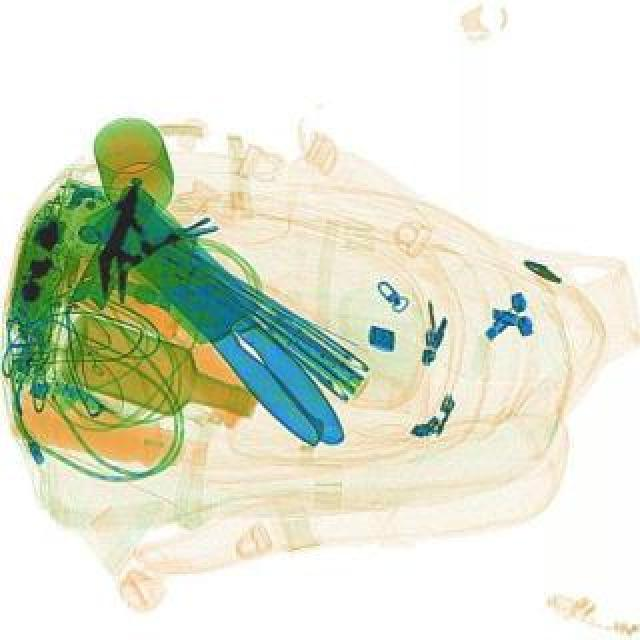knife: (80, 182, 370, 466), (86, 184, 362, 452)
